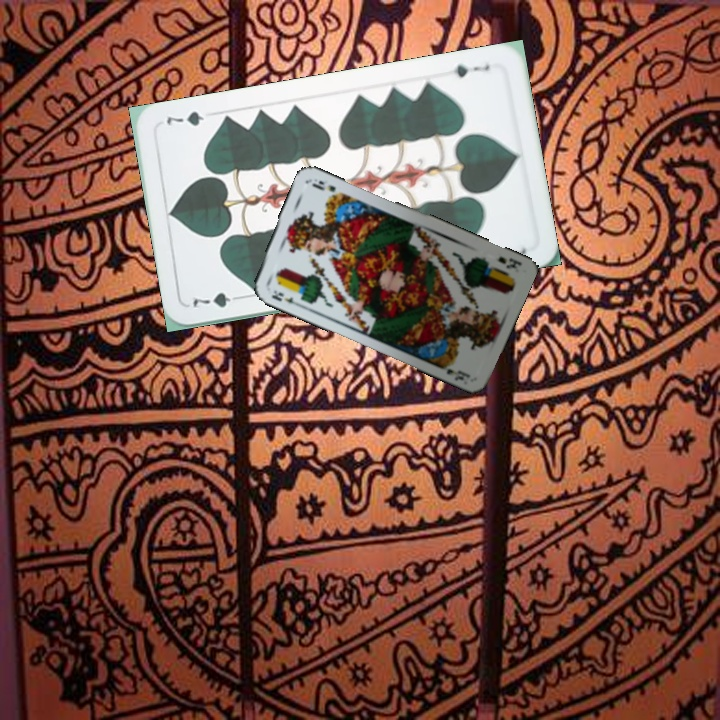EK: (267, 286, 300, 308), (493, 253, 524, 273)
G7: (189, 288, 246, 310), (449, 60, 493, 80)
